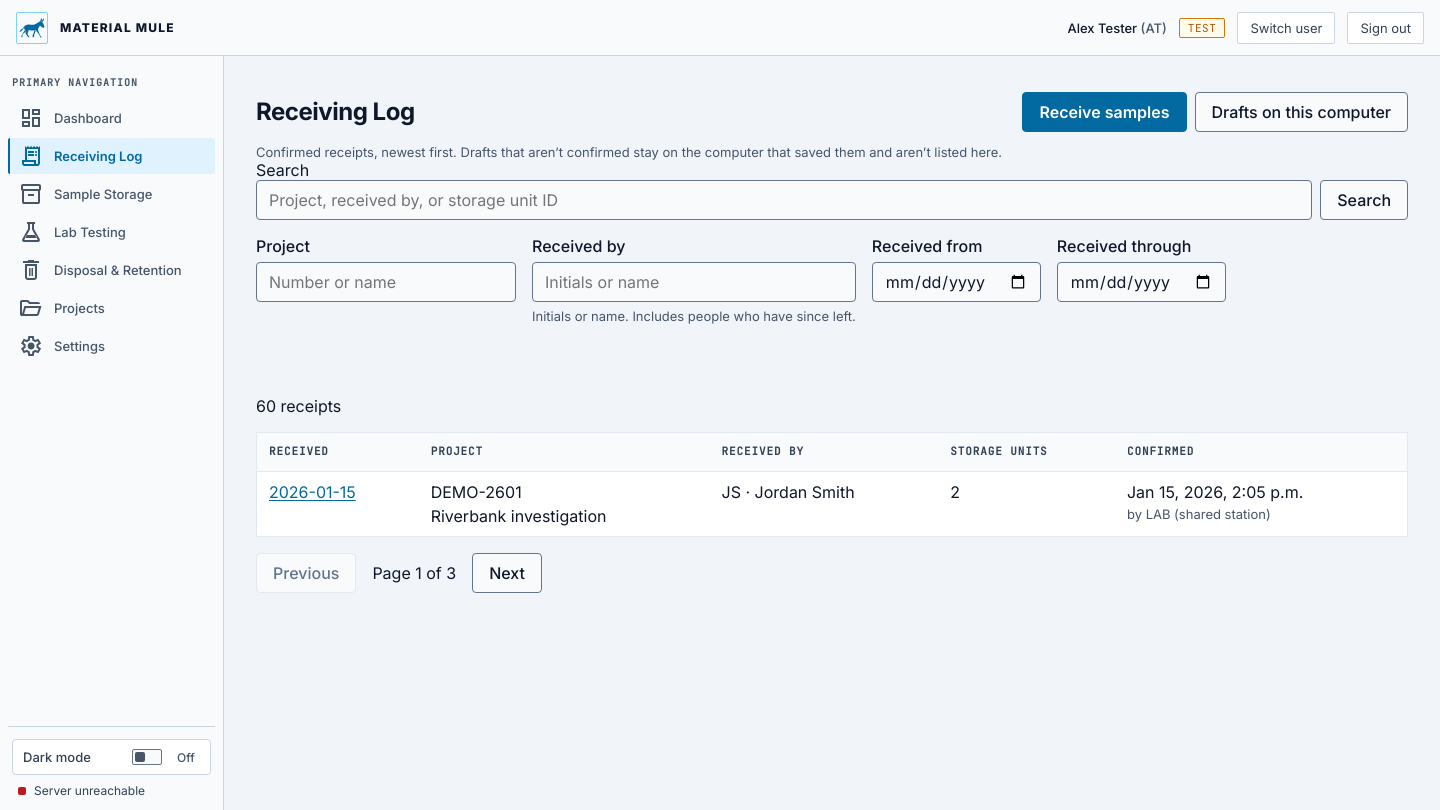
Scenario: Receiving Log list (MM-T51) › pages with Previous and Next
expect the text "Page 1 of 3" is shown: met, box [372,562,456,582]
Click the button "Next" at (507, 572), box [472,552,542,592]
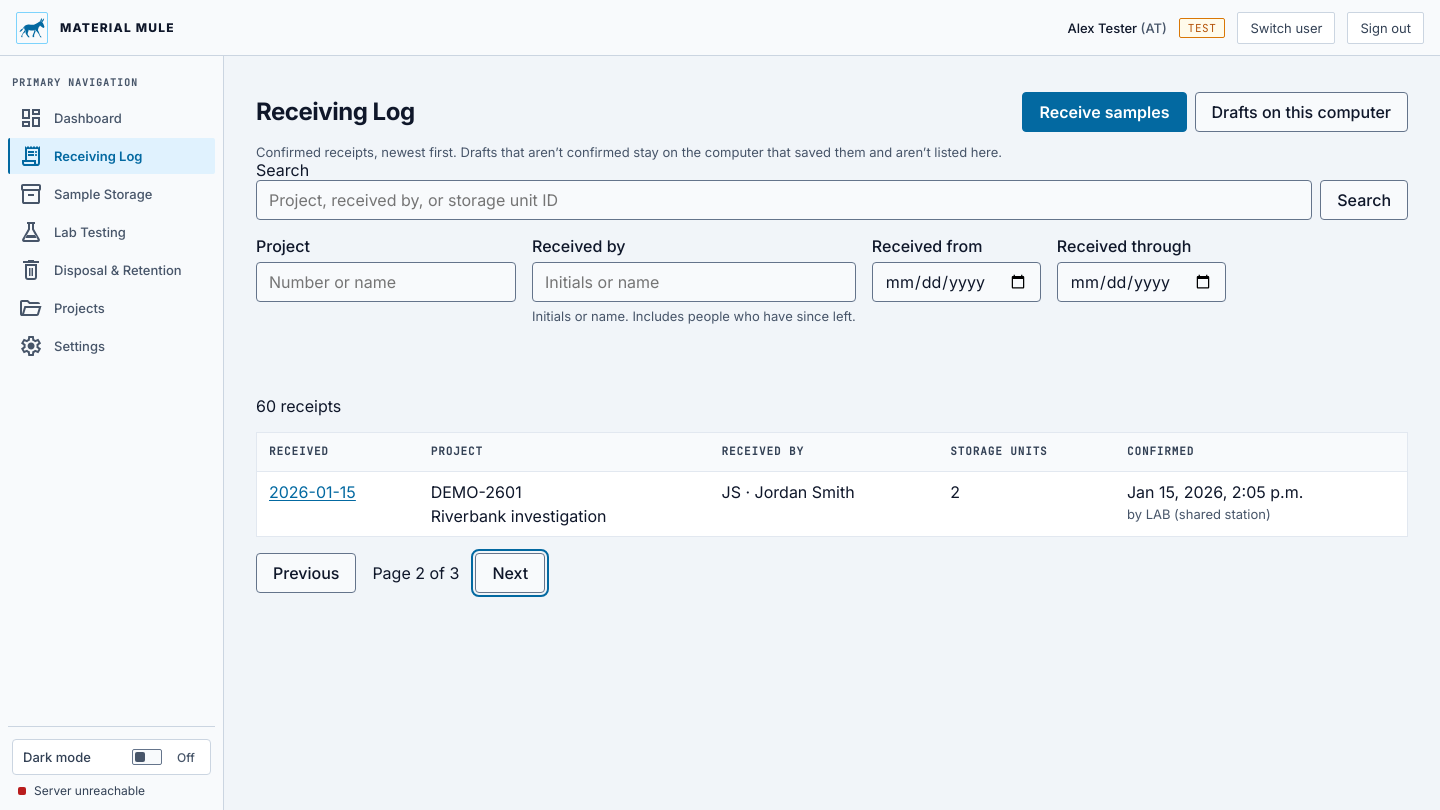
expect the text "Page 2 of 3" is shown: met, box [372,562,459,582]
